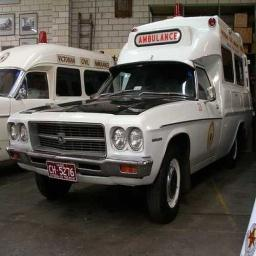ambulance: (7, 16, 252, 222), (0, 43, 113, 163)
